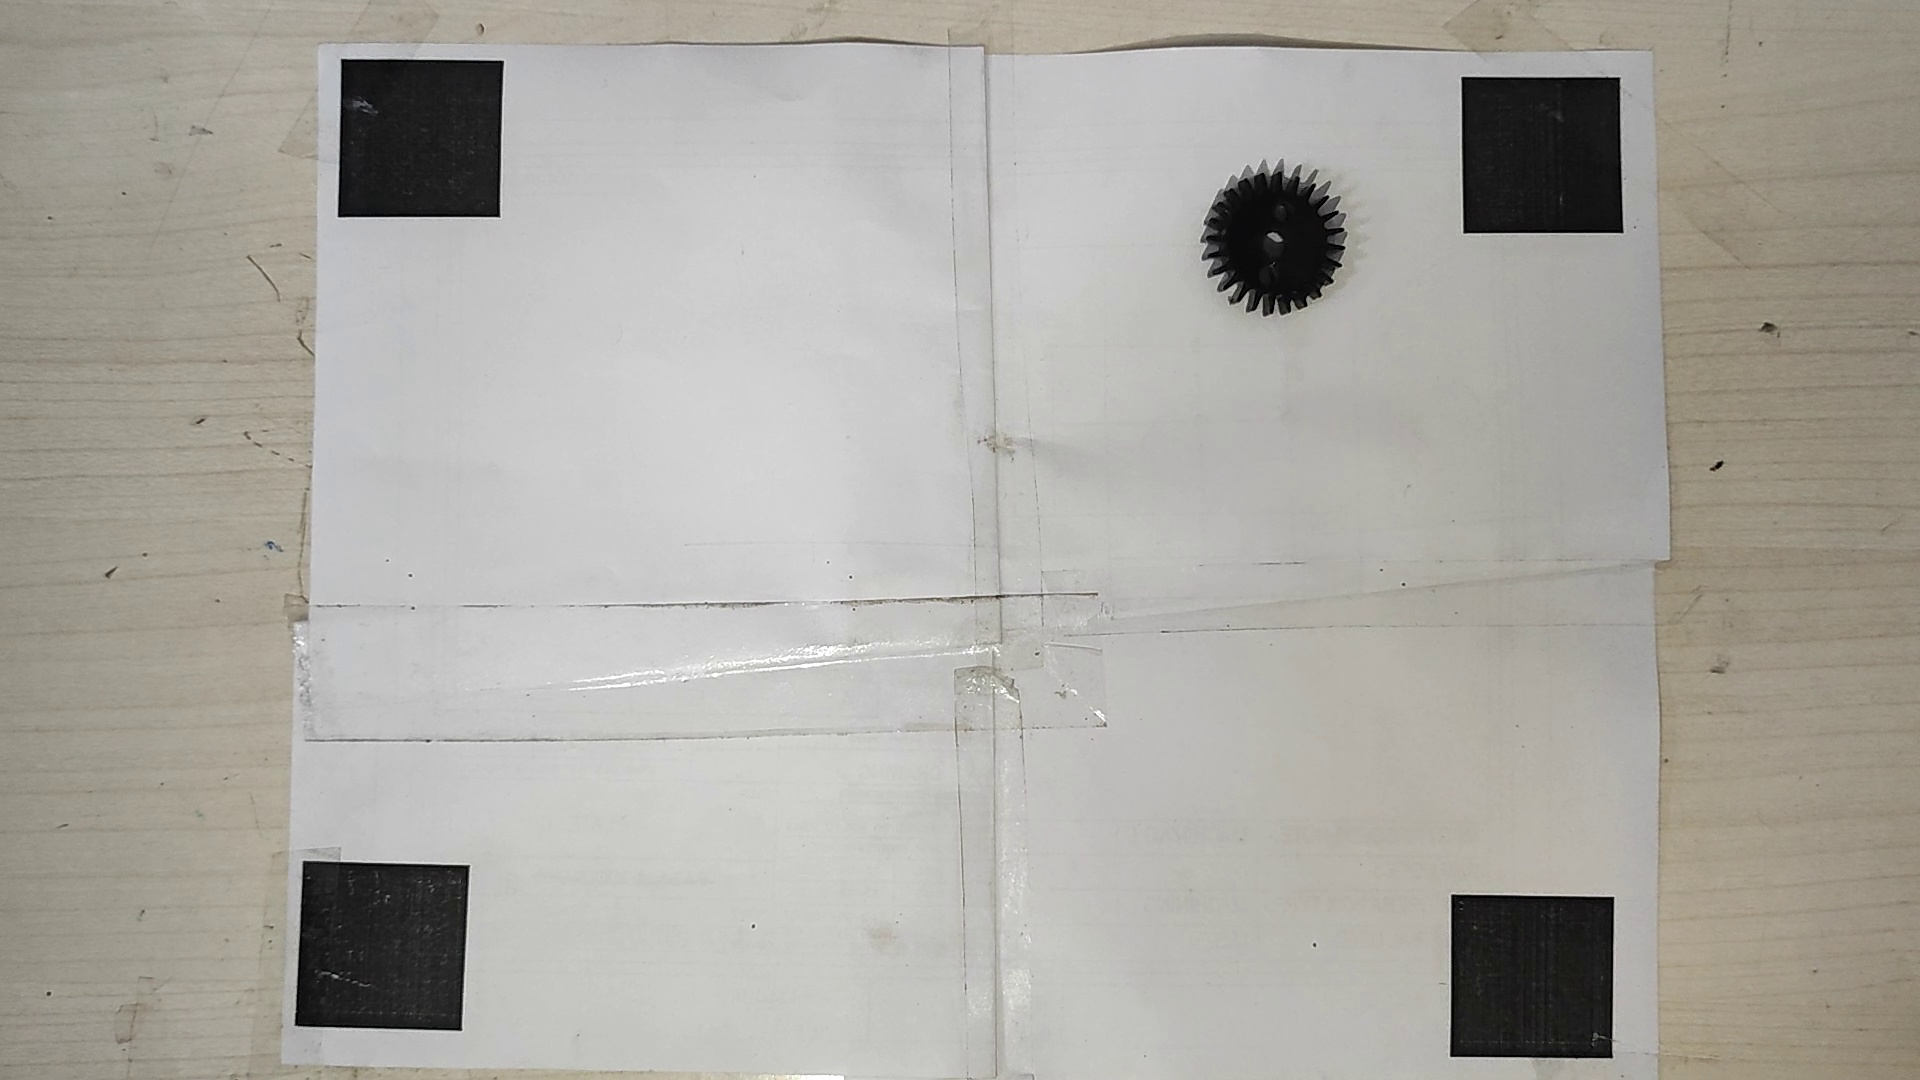Gear: (1195, 166, 1345, 322)
